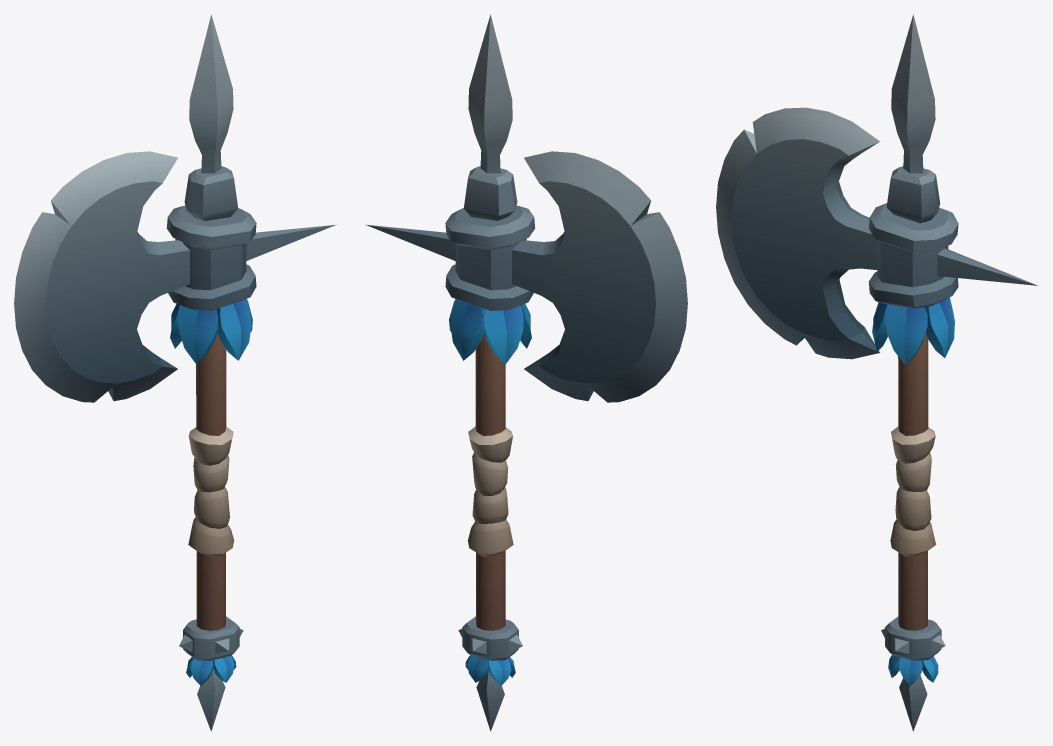
Rendered from halberd.fbx.
3 views of the same model, side by side, from view 1: azimuth 30°, elevation 25°; view 2: azimuth 150°, elevation 25°; view 3: azimuth 330°, elevation 25° (orthographic).
Visible parts, largest first — view 1: halberd; view 2: halberd; view 3: halberd.
Part boxes in pixels (bbox=[...]): halberd: bbox=[14, 14, 336, 731]; halberd: bbox=[365, 14, 687, 731]; halberd: bbox=[716, 14, 1038, 731].
Bounding box in the file's own units: 129 × 275 × 29.1.
